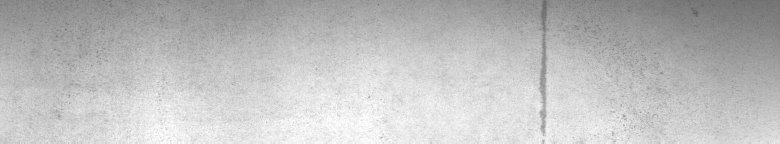hd: (532, 4, 560, 136)
